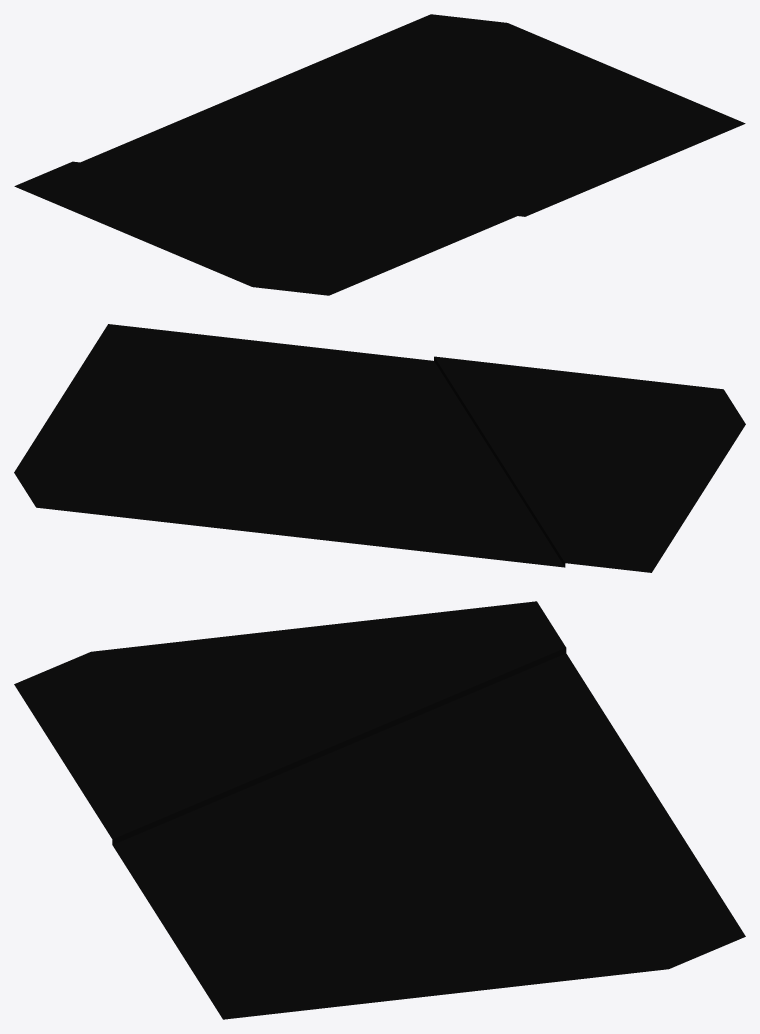
The picture shows the model from 3 angles, top to bottom: view 1: azimuth 30°, elevation 25°; view 2: azimuth 150°, elevation 25°; view 3: azimuth 270°, elevation 25°; orthographic projection. The views are drawn at different scales.
Parts seen in each view (by area): view 1: Joint_0_Object_0; view 2: Joint_0_Object_0; view 3: Joint_0_Object_0.
Part boxes in pixels (bbox=[...]): Joint_0_Object_0: bbox=[14, 14, 745, 295]; Joint_0_Object_0: bbox=[14, 324, 745, 572]; Joint_0_Object_0: bbox=[14, 601, 745, 1019].
Size of the model in its own units: 635 by 4 by 476.
Materials: 1 (1 with a texture image).
